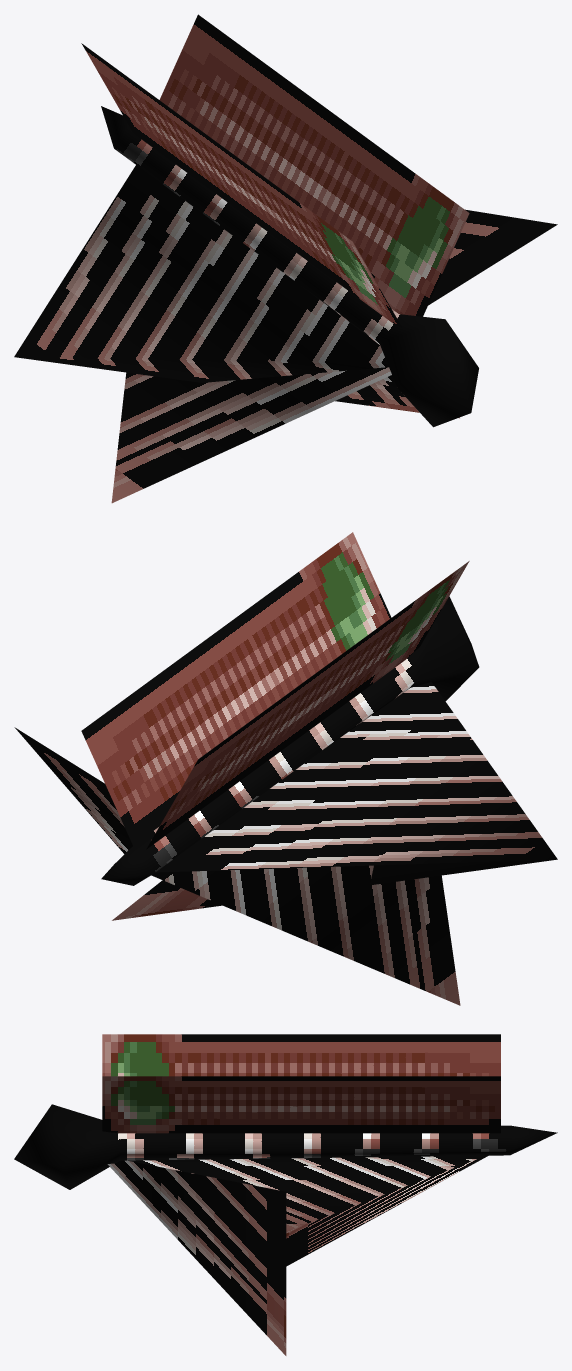
3 renders of one model, top to bottom at view 1: azimuth 30°, elevation 25°; view 2: azimuth 150°, elevation 25°; view 3: azimuth 270°, elevation 25°, orthographic. The views are drawn at different scales.
Visible parts, largest first — view 1: 2126_fish56; view 2: 2126_fish56; view 3: 2126_fish56.
Boxes of the visible parts, x1,y1,x2,y2 form: 2126_fish56: [14, 14, 557, 503]; 2126_fish56: [14, 532, 557, 1005]; 2126_fish56: [14, 1034, 557, 1355].
Bounding box in the file's own units: 0.8478 × 0.4845 × 1.
1 material, 1 textured.
